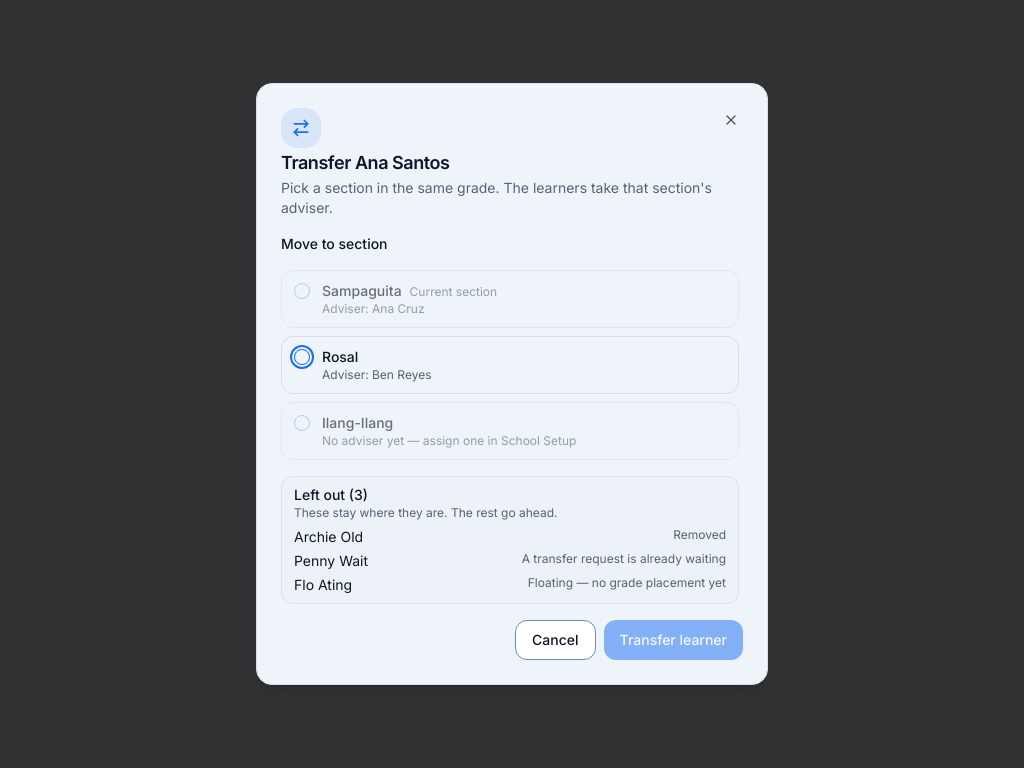
Test: TransferLearnersDialog — selections that cannot go ahead › lists left-out rows with a reason and lets the rest go ahead
This screenshot has width=1024, height=768.
Expected: the heading "Left out (3)" is shown, [294,486,368,503]
Expected: the text "Archie Old" is shown, [294,527,363,547]
Only the one eligible learner is counted and sent.
Step 1. Click the radio button named "Rosal" next to "Rosal" → [302, 357], box [294,349,310,365]
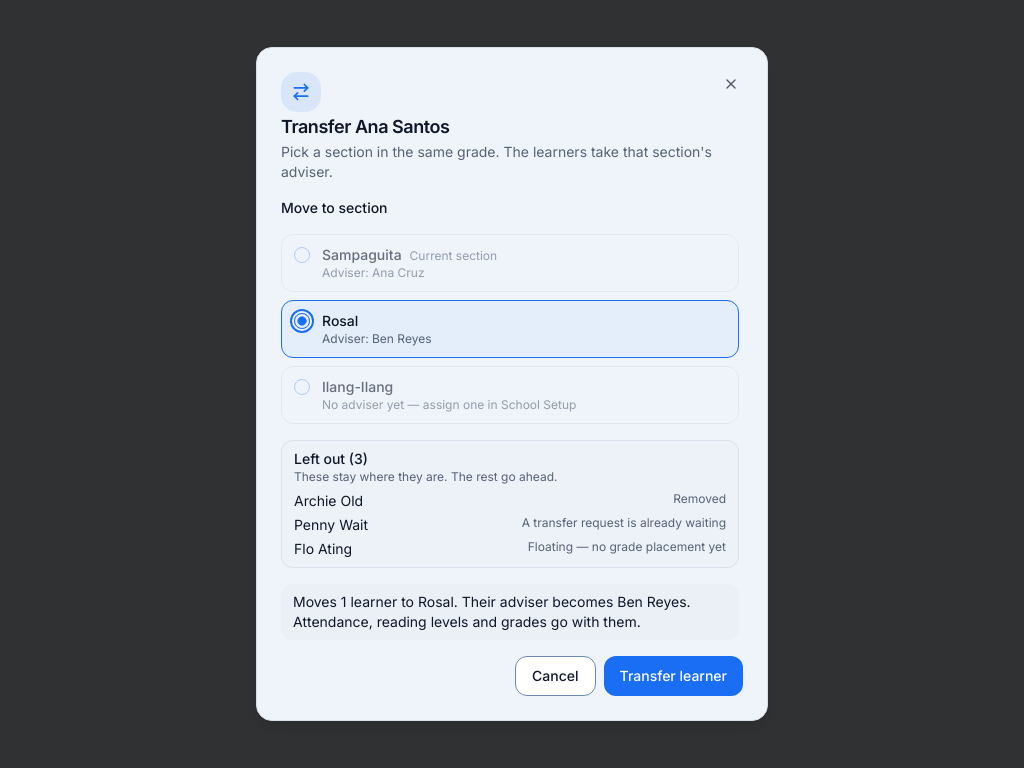
Now the button "Transfer learner" is enabled, box [604,656,743,696]
